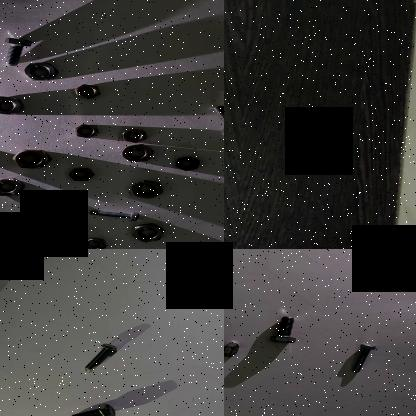Bolts: (77, 342, 121, 373), (1, 35, 36, 68), (14, 216, 69, 235), (266, 314, 298, 346), (348, 342, 376, 376), (85, 209, 144, 222), (68, 402, 116, 416), (205, 105, 224, 135), (224, 338, 240, 358)
NUTS: (9, 148, 51, 170), (127, 222, 167, 242), (21, 63, 63, 81), (118, 143, 155, 163), (127, 180, 165, 198), (0, 94, 25, 116), (27, 204, 59, 221), (0, 177, 27, 197), (72, 82, 102, 100), (174, 156, 204, 173), (68, 167, 96, 184), (120, 128, 148, 144), (77, 237, 113, 249), (71, 124, 98, 140)
